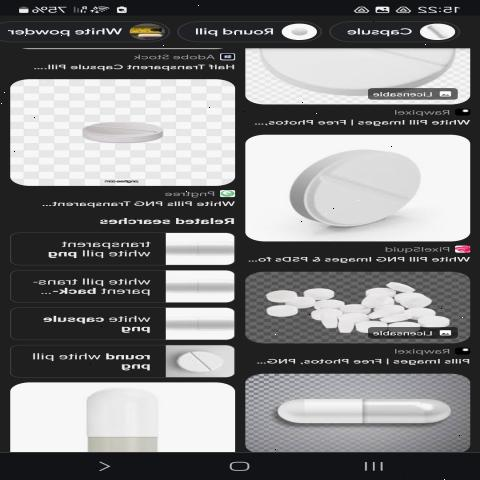Pill: (261, 144, 435, 237), (262, 380, 463, 434), (79, 111, 171, 151), (156, 350, 238, 378)
